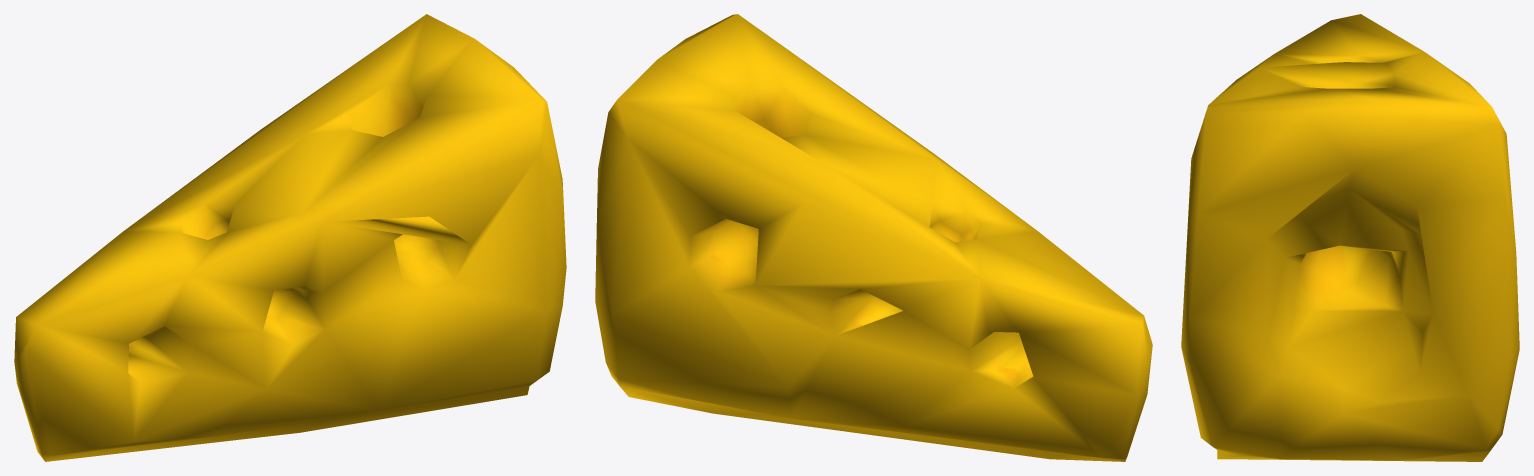
Rendered from cheese.glb.
3 views of the same model, side by side, from view 1: azimuth 30°, elevation 25°; view 2: azimuth 150°, elevation 25°; view 3: azimuth 270°, elevation 25° (orthographic). The views are drawn at different scales.
Size of the model in its own units: 1.9 by 1.14 by 0.9465.
Materials: 1 (1 with a texture image).
